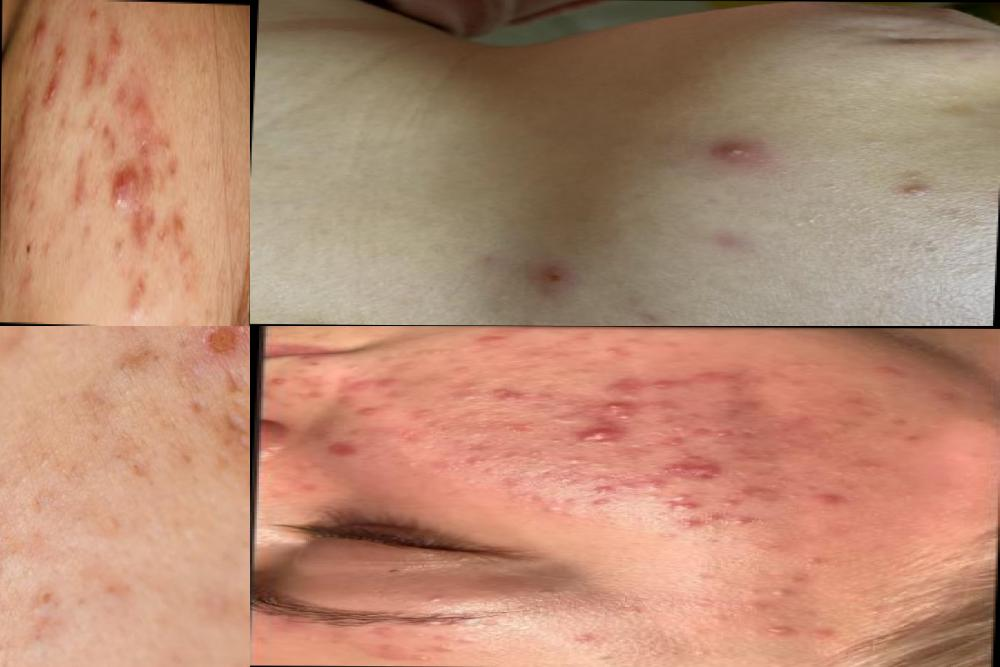cystic: (110, 159, 138, 220)
papular: (590, 379, 664, 404), (318, 441, 376, 460), (478, 387, 534, 406), (339, 375, 382, 394), (720, 487, 771, 502), (105, 26, 125, 64), (809, 492, 863, 506), (82, 49, 101, 87), (701, 429, 748, 442), (373, 377, 417, 390), (349, 406, 392, 419), (259, 374, 297, 388), (471, 334, 511, 347), (645, 380, 683, 392), (135, 96, 151, 123), (658, 438, 692, 449)
purulent: (749, 622, 816, 643), (649, 492, 703, 514), (712, 138, 763, 161), (584, 398, 637, 416), (889, 182, 947, 197), (32, 9, 50, 54), (584, 484, 622, 497), (604, 412, 648, 423), (582, 497, 622, 509), (672, 520, 707, 531), (728, 517, 757, 527), (697, 513, 726, 523), (718, 499, 747, 509), (904, 189, 923, 193)
sebo-crystan-conglo: (663, 460, 750, 482), (560, 428, 641, 447), (43, 67, 61, 124)
whitehead: (727, 585, 812, 613), (416, 631, 483, 659), (448, 377, 497, 410), (395, 588, 455, 609), (562, 630, 614, 651), (553, 454, 602, 469), (630, 476, 677, 490), (492, 451, 532, 464), (408, 348, 460, 357), (795, 216, 829, 229), (903, 170, 937, 182), (596, 348, 631, 359), (524, 449, 553, 462), (933, 392, 964, 404), (372, 354, 405, 365), (570, 368, 597, 377), (450, 366, 477, 375)
